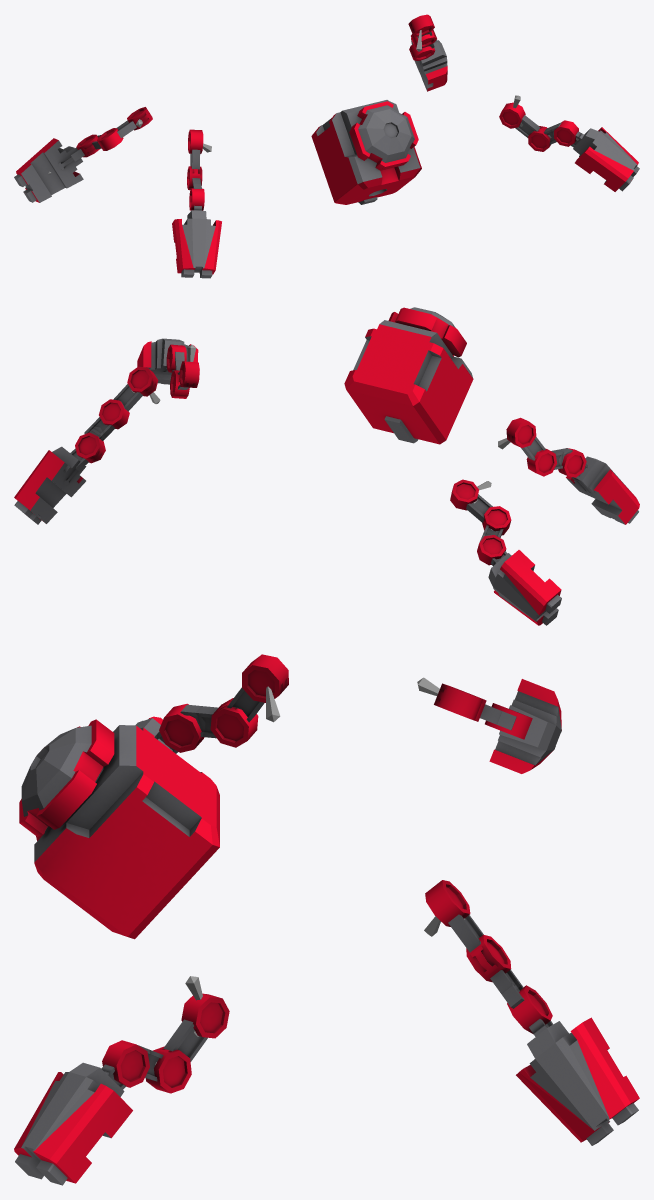
Rendered from Monster1_Die7.obj.
The picture shows the model from 3 angles, top to bottom: view 1: azimuth 30°, elevation 25°; view 2: azimuth 150°, elevation 25°; view 3: azimuth 270°, elevation 25°; orthographic projection. The views are drawn at different scales.
Parts seen in each view (by area): view 1: Box006, Object025, Object021, Object017, Object013, Object018, Object019, Object020, Object026, Object022, Object027, Object014 (+1 smaller); view 2: Box006, Object025, Object013, Object021, Object017, Object014, Object015, Object026, Object022, Object016, Object023, Object027 (+4 smaller); view 3: Box006, Object013, Object017, Object025, Object018, Object022, Object023, Object014, Object015, Object020, Object019, Object024 (+2 smaller).
Boxes of the visible parts, box(x1,y1,x2,y2) form: Box006: box(311, 100, 421, 204); Object025: box(14, 138, 83, 202); Object021: box(172, 210, 221, 278); Object017: box(573, 127, 639, 191); Object013: box(411, 38, 447, 91); Object018: box(499, 102, 540, 137); Object019: box(528, 122, 561, 151); Object020: box(554, 120, 583, 147); Object026: box(116, 107, 152, 138); Object022: box(188, 129, 203, 169); Object027: box(92, 128, 123, 150); Object014: box(408, 14, 434, 38); Box006: box(344, 307, 473, 444); Object025: box(488, 550, 561, 625); Object013: box(14, 446, 86, 524); Object021: box(566, 456, 639, 524); Object017: box(137, 338, 198, 384); Object014: box(113, 366, 158, 411); Object015: box(84, 399, 129, 440); Object026: box(450, 479, 492, 522); Object022: box(506, 417, 545, 460); Object016: box(70, 432, 105, 470); Object023: box(526, 448, 572, 476); Object027: box(479, 506, 511, 542); Box006: box(19, 719, 219, 939); Object013: box(516, 1017, 639, 1145); Object017: box(14, 1062, 132, 1185); Object025: box(489, 679, 561, 773); Object018: box(163, 993, 229, 1061); Object022: box(227, 654, 288, 722); Object023: box(180, 698, 258, 747); Object014: box(425, 880, 483, 952); Object015: box(466, 934, 524, 1008); Object020: box(101, 1040, 149, 1089); Object019: box(138, 1045, 191, 1093); Object024: box(154, 703, 204, 753).
Size of the model in its own units: 404 by 105 by 241.
